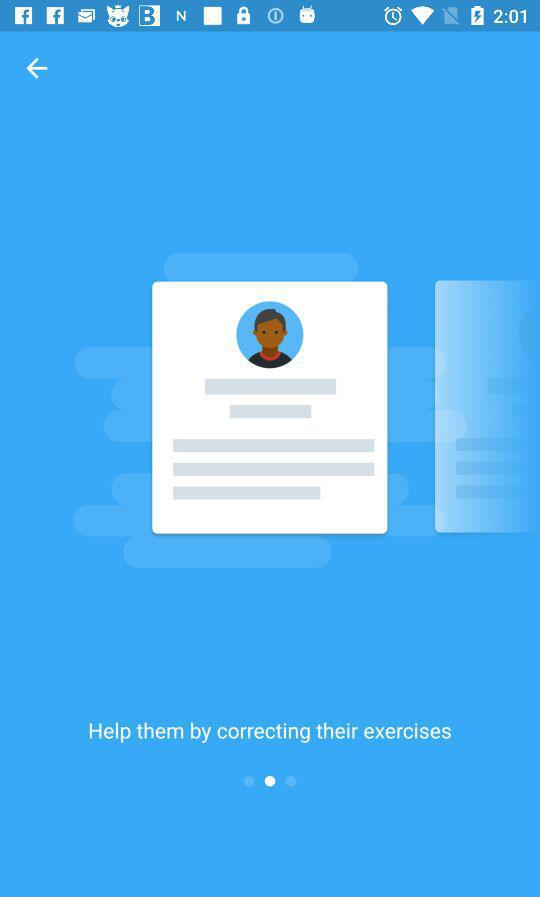Icon: (26, 58, 49, 81)
Image: (73, 253, 540, 568)
PageIndicator: (242, 774, 299, 790)
Text: (90, 720, 452, 745)
UpperTaskBar: (1, 1, 540, 33)
